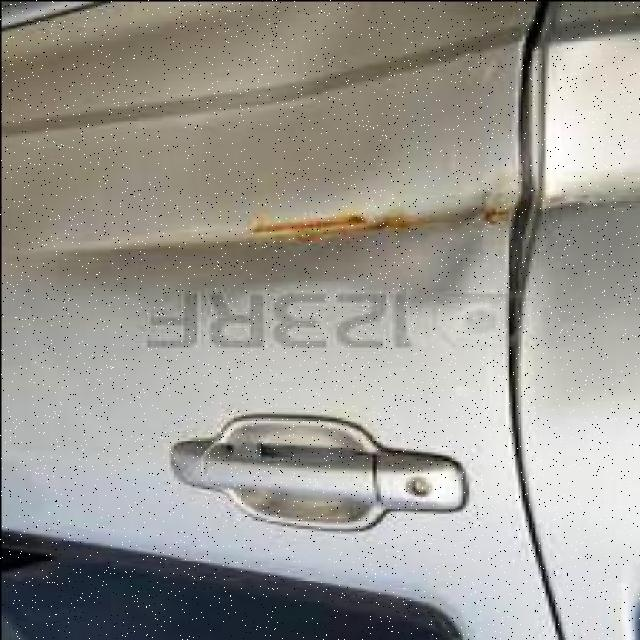damage: (11, 8, 638, 314)
